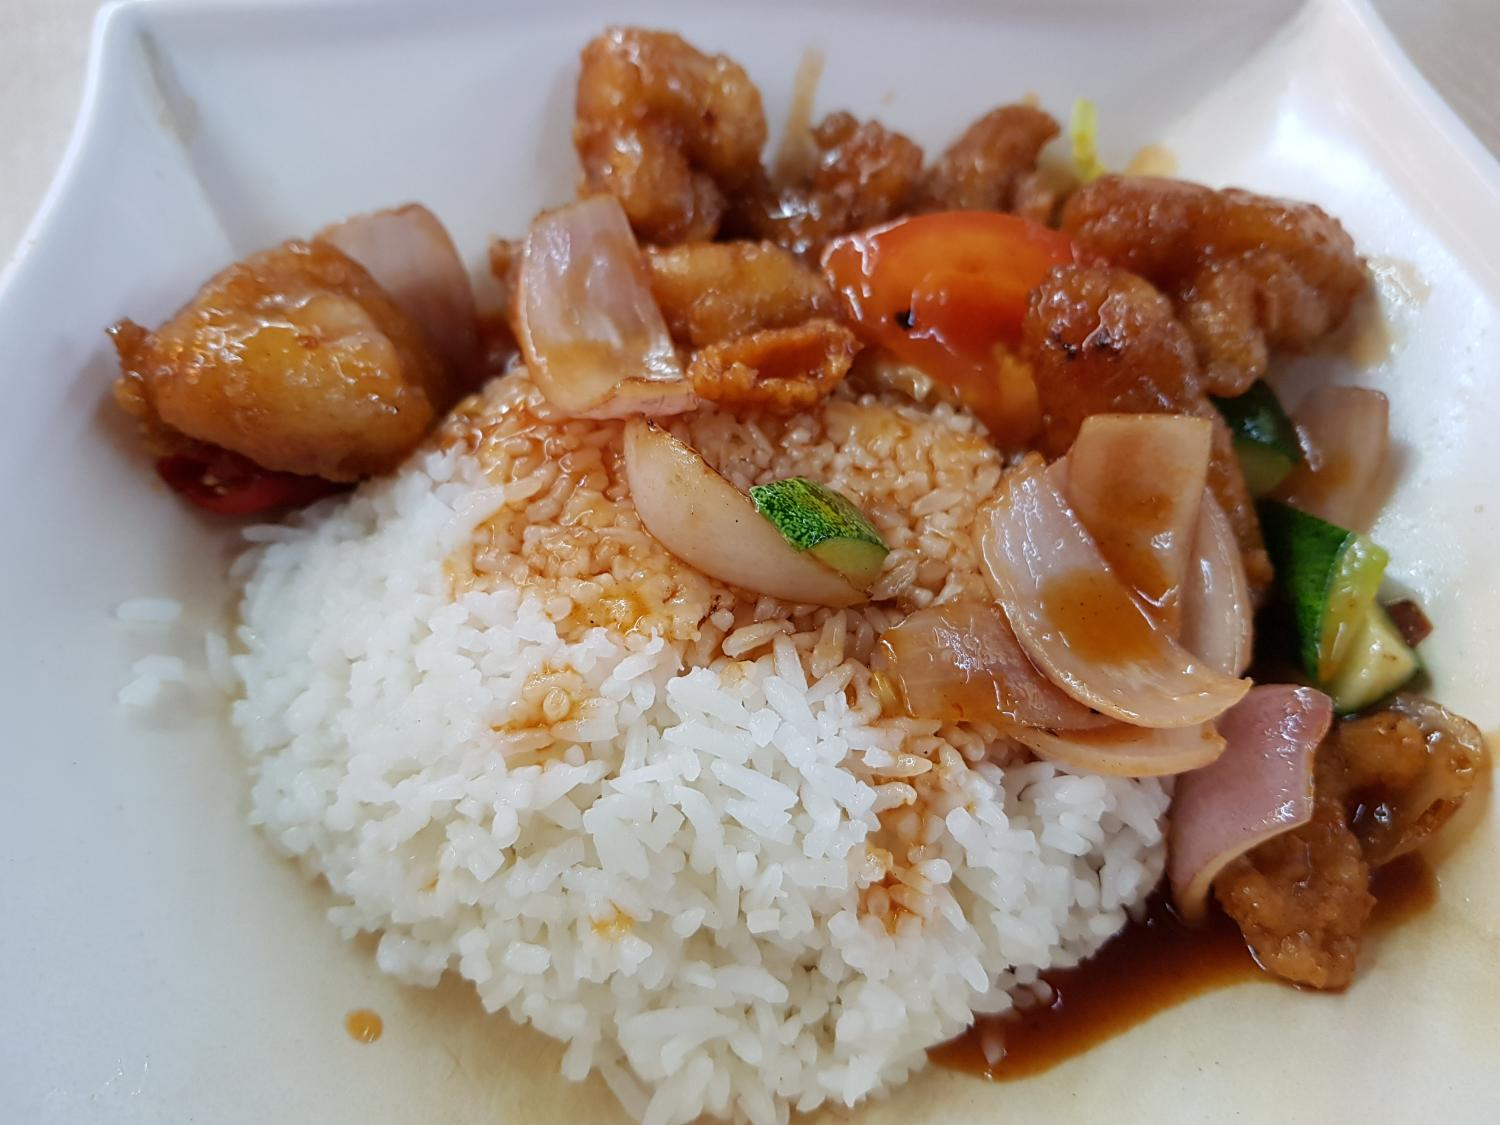plain rice: (239, 588, 961, 965)
